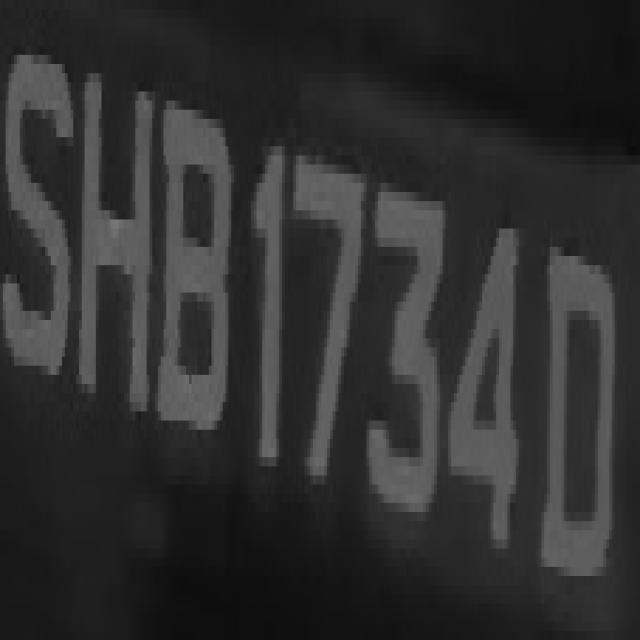1: (243, 110, 293, 521)
3: (372, 137, 446, 521)
4: (448, 137, 524, 549)
7: (290, 82, 366, 521)
B: (158, 37, 237, 466)
D: (539, 173, 623, 612)
H: (79, 46, 158, 411)
S: (6, 18, 76, 421)
